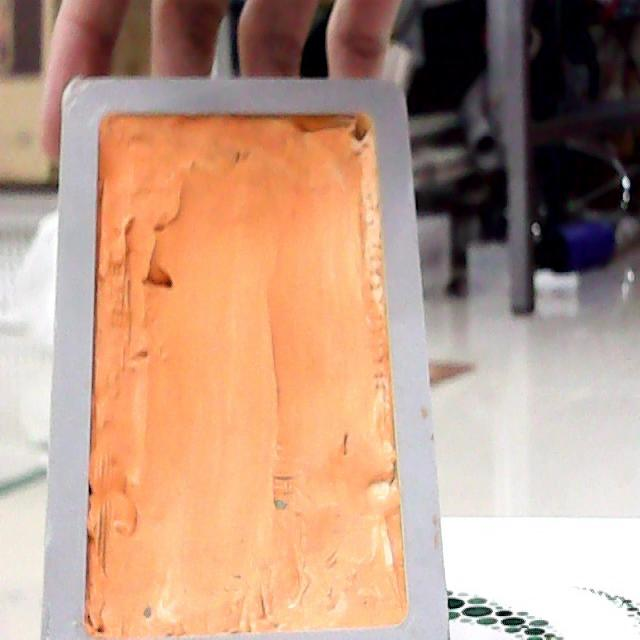block: (35, 76, 458, 640), (30, 638, 35, 640)
